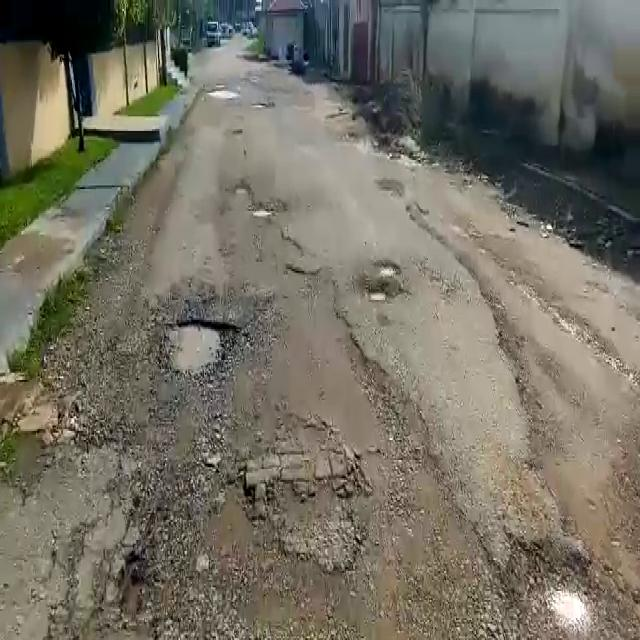Pothole: (164, 317, 242, 377), (374, 261, 404, 278), (366, 288, 388, 303), (253, 210, 275, 219), (234, 184, 248, 195)
